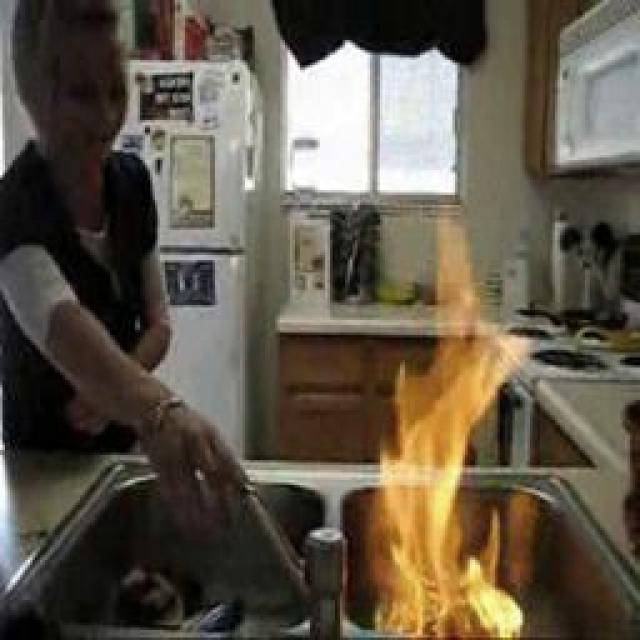Fire: (379, 229, 521, 633)
